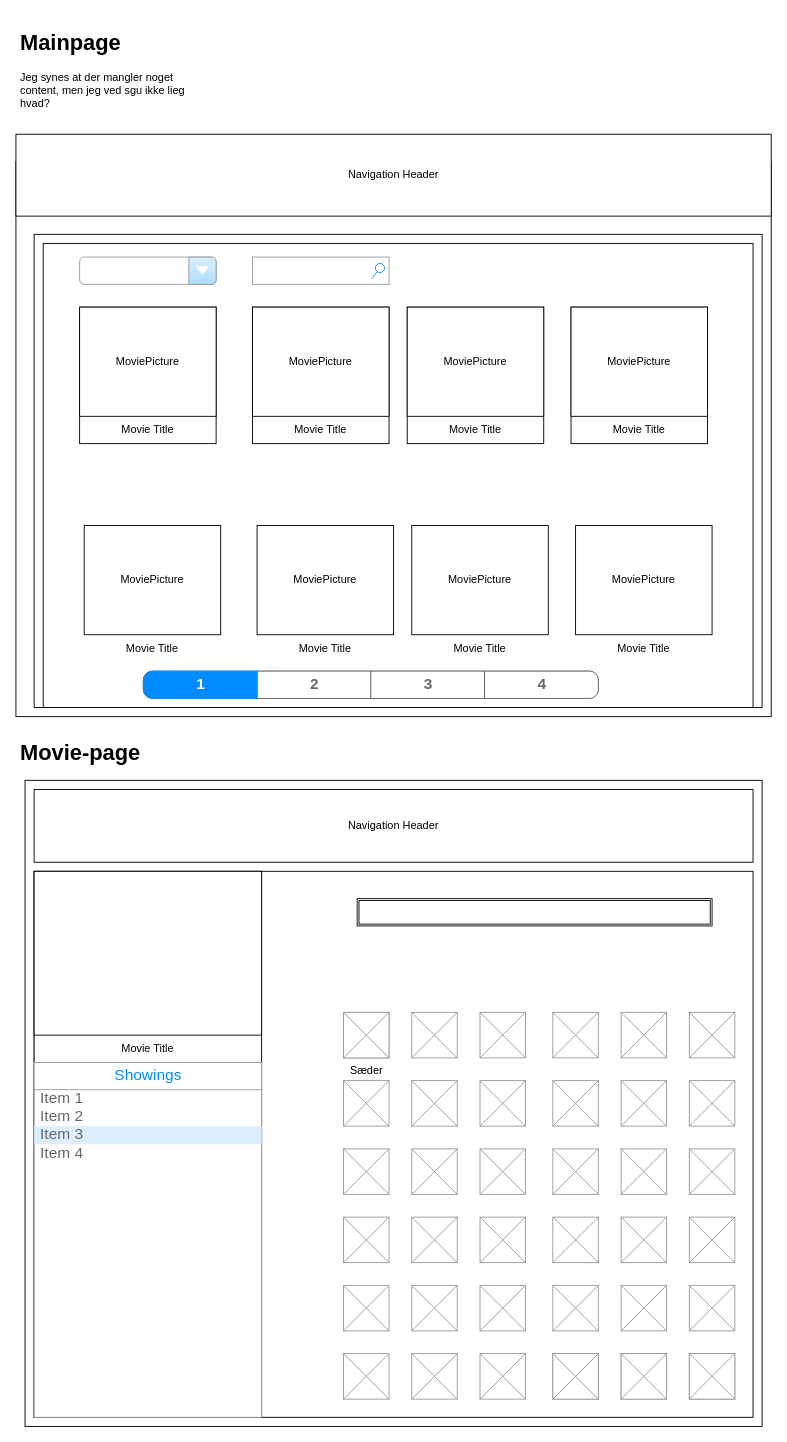
This 787x1442 diagram has some shape labels left out. Here are the shapes that lost their labels. From the top down, the box of each, then its label:
(79, 256, 216, 284): GenrePicker
(252, 256, 389, 284): Search
(356, 898, 712, 926): Skærm
(33, 870, 262, 1035): Movie picture / Trailer
